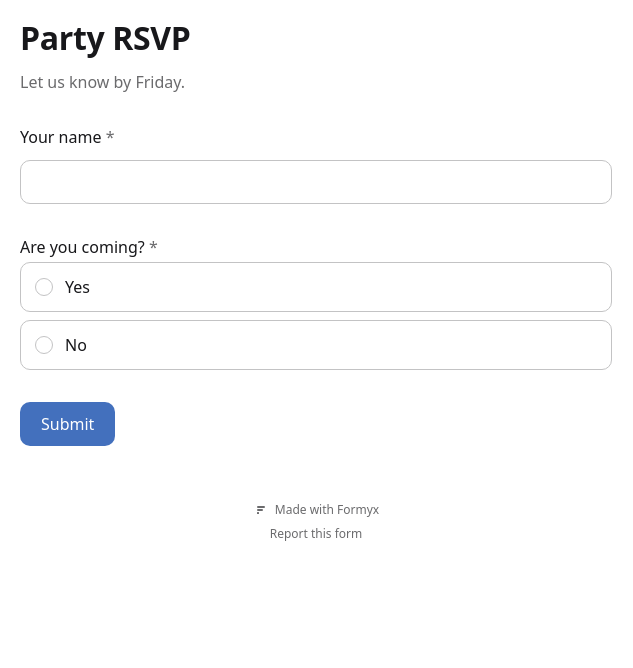
Test: PublicFormPage › sends the answers with the time taken, then says thank you
The image size is (633, 668).
Expected: the heading "Party RSVP" is shown, top-left (20, 16), bottom-right (190, 59)
Step 1. Type " Ada " into the field labelled "Your name *" → (316, 182), box top-left (20, 160), bottom-right (612, 204)
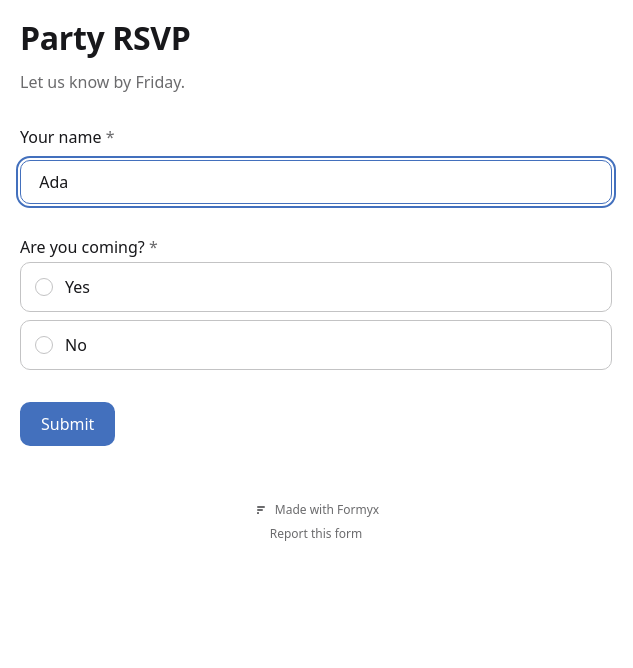
Step 2. Click the radio button labelled "Yes" → (44, 287), box top-left (20, 262), bottom-right (612, 312)
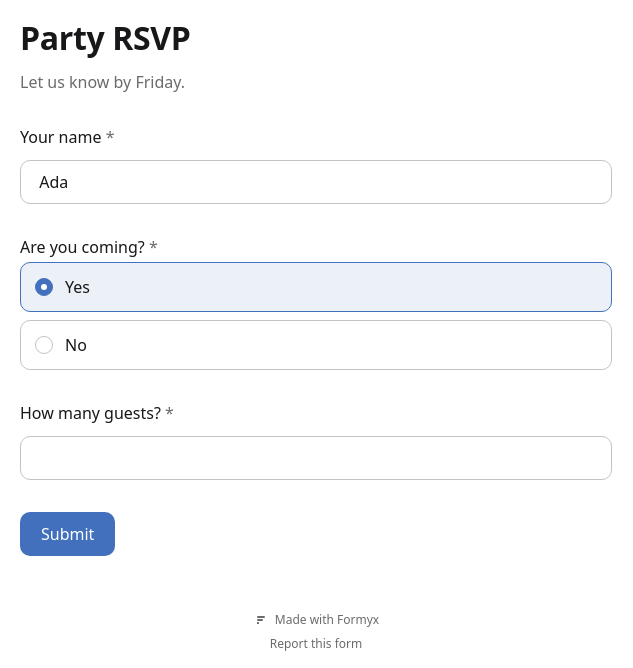
Step 3. Type "2" into the field labelled "How many guests? *" → (316, 458), box top-left (20, 436), bottom-right (612, 480)
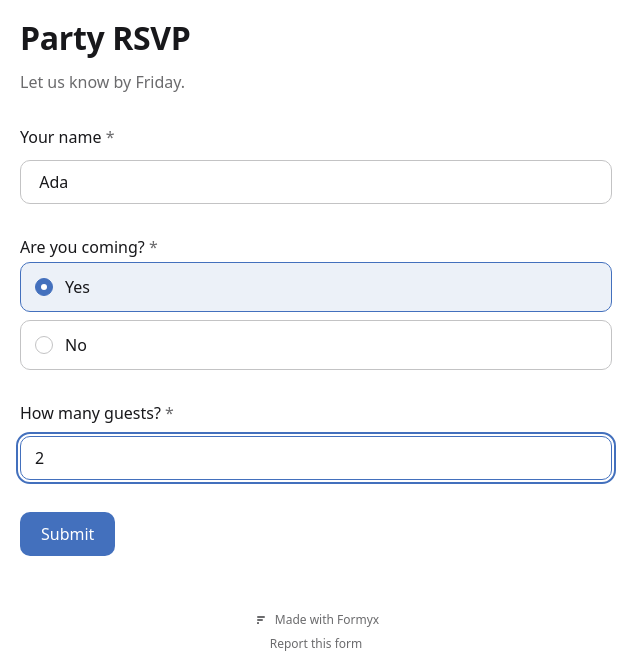
Step 4. Click the button "Submit" → (68, 534), box top-left (20, 512), bottom-right (115, 556)
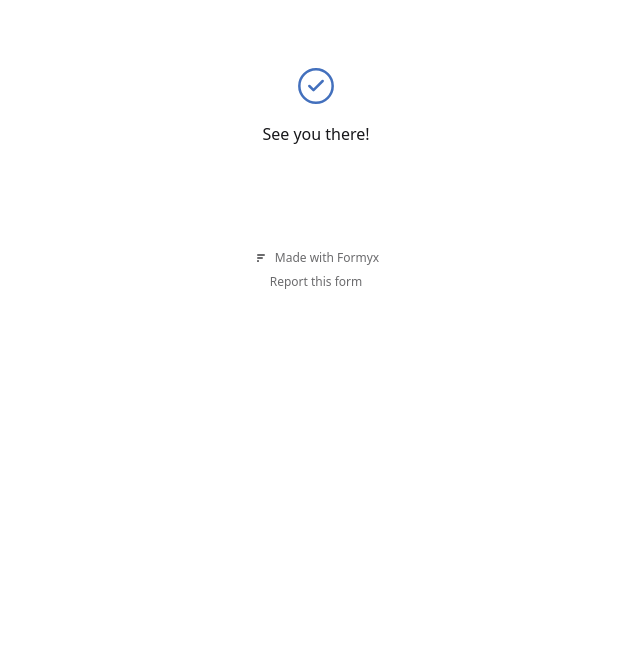
Expected: the text "See you there!" is shown, top-left (262, 122), bottom-right (370, 146)
